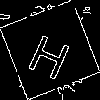H: (25, 25, 77, 81)
